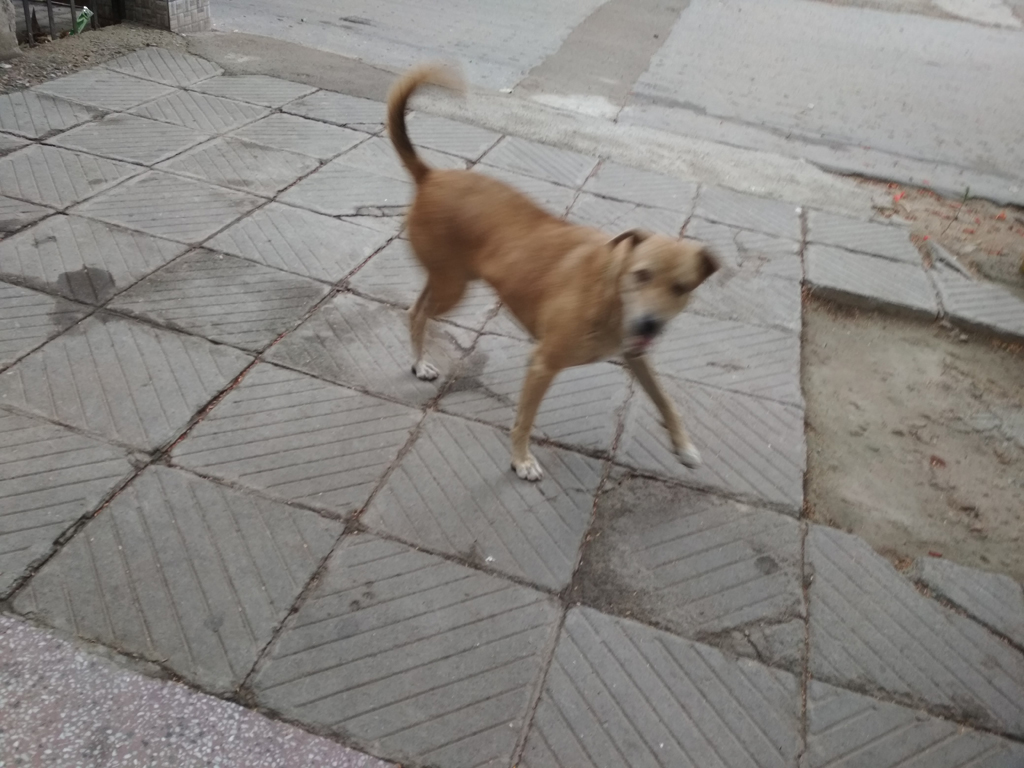dog: (387, 60, 723, 483)
